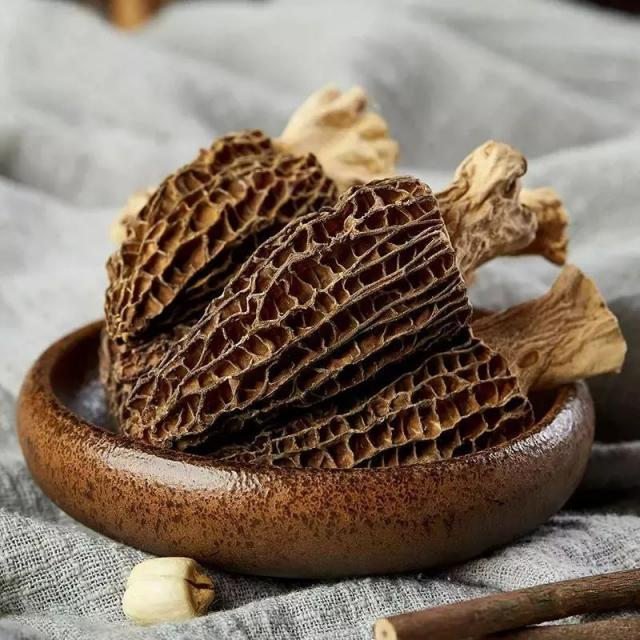Morchella esculenta: (96, 84, 626, 478)
